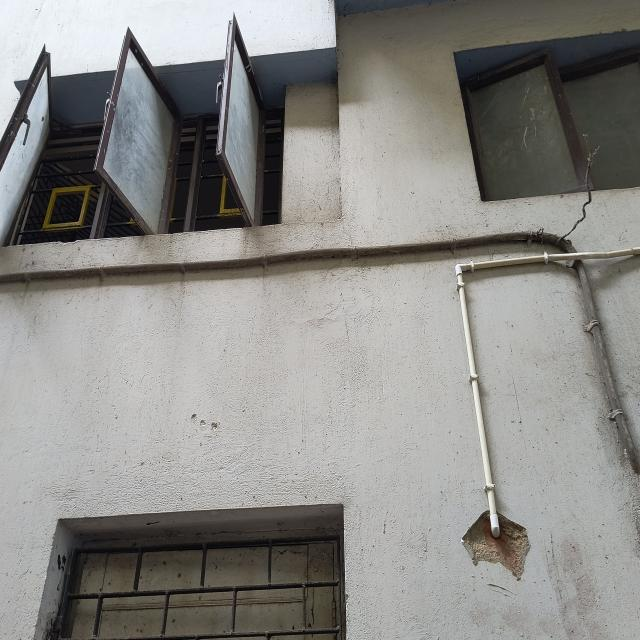peeling: (462, 510, 530, 579)
